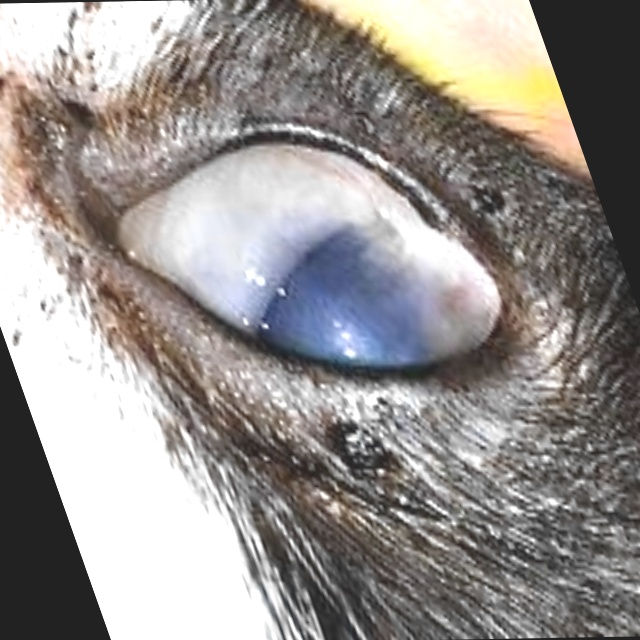eye_infection: (70, 129, 543, 390)
